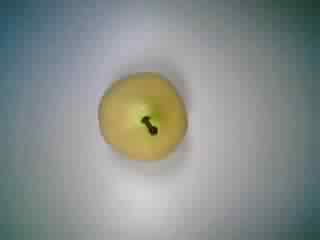pear: (86, 65, 194, 163)
